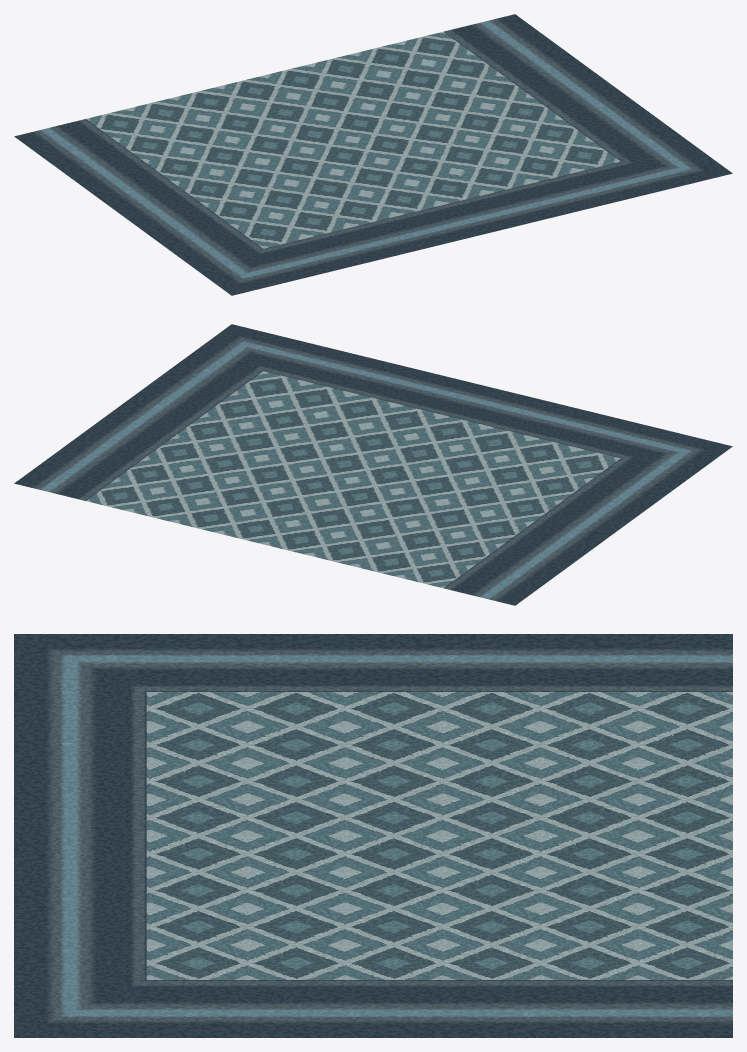
File: DI_024_rug_var02.glb
The picture shows the model from 3 angles, top to bottom: view 1: azimuth 30°, elevation 25°; view 2: azimuth 150°, elevation 25°; view 3: azimuth 270°, elevation 25°; orthographic projection. The views are drawn at different scales.
Visible parts, largest first — view 1: Rug.002; view 2: Rug.002; view 3: Rug.002.
Boxes of the visible parts, box(x1,y1,x2,y2) form: Rug.002: box(14, 14, 732, 295); Rug.002: box(14, 324, 732, 605); Rug.002: box(14, 634, 732, 1037).
Bounding box in the file's own units: 3 × 0 × 2.26.
2 materials, 2 textured.
